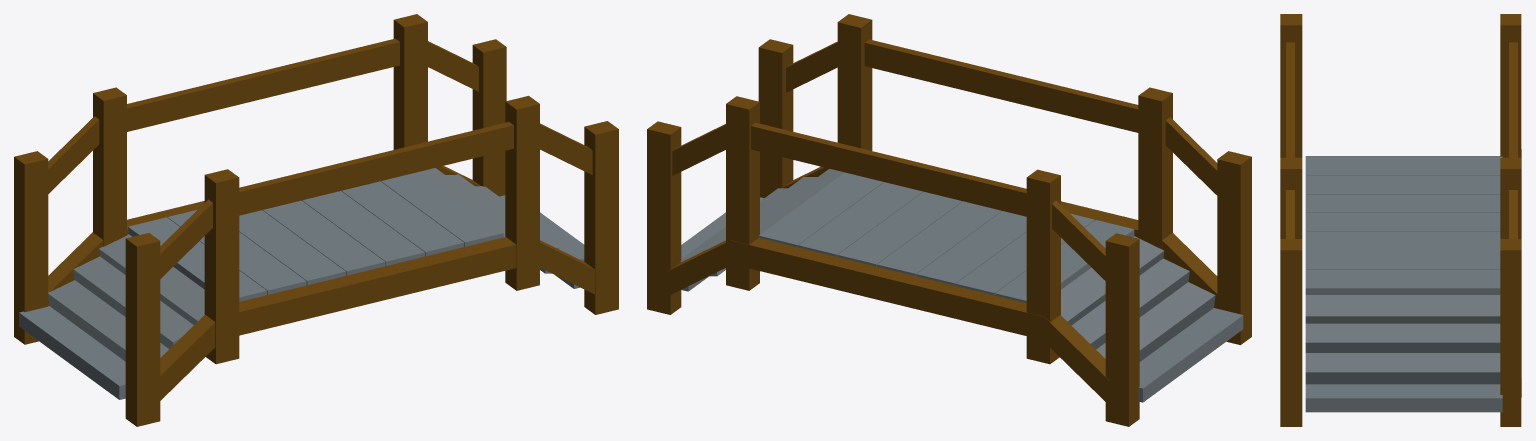
File: bridge_4x2.glb
The picture shows the model from 3 angles, left to right: view 1: azimuth 30°, elevation 25°; view 2: azimuth 150°, elevation 25°; view 3: azimuth 270°, elevation 25°; orthographic projection. The views are drawn at different scales.
Parts seen in each view (by area): view 1: bridge_4x2; view 2: bridge_4x2; view 3: bridge_4x2.
Part boxes in pixels (<box>): bridge_4x2: <box>14,14,618,426</box>; bridge_4x2: <box>647,14,1251,426</box>; bridge_4x2: <box>1280,14,1521,426</box>.
Bounding box in the file's own units: 4.6 × 2 × 1.99.
